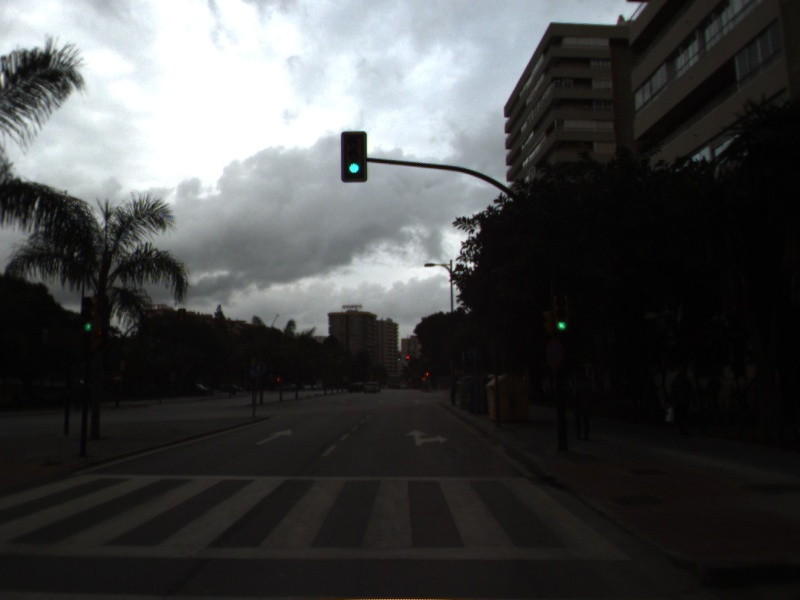STRAIGHT: (252, 428, 295, 447)
STRAIGHT_RIGHT: (402, 427, 451, 447)
